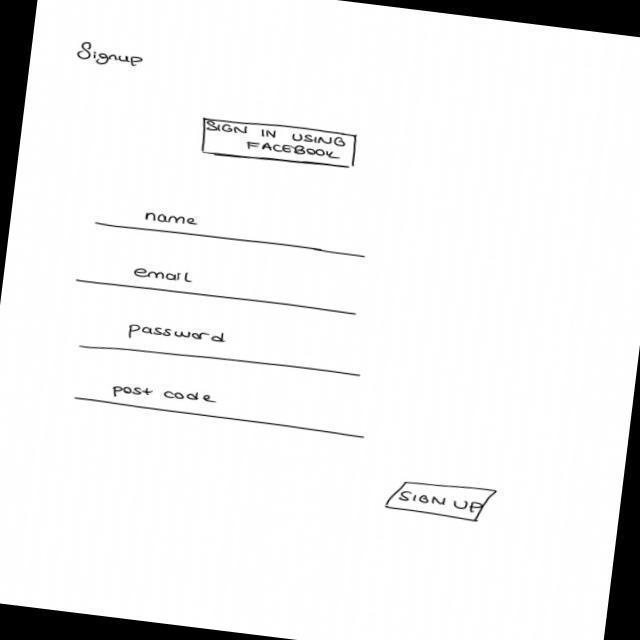button: (198, 114, 362, 176), (381, 475, 500, 527)
input: (77, 311, 367, 384), (72, 376, 369, 441), (74, 258, 361, 319), (93, 203, 370, 260)
label: (74, 41, 147, 72)
